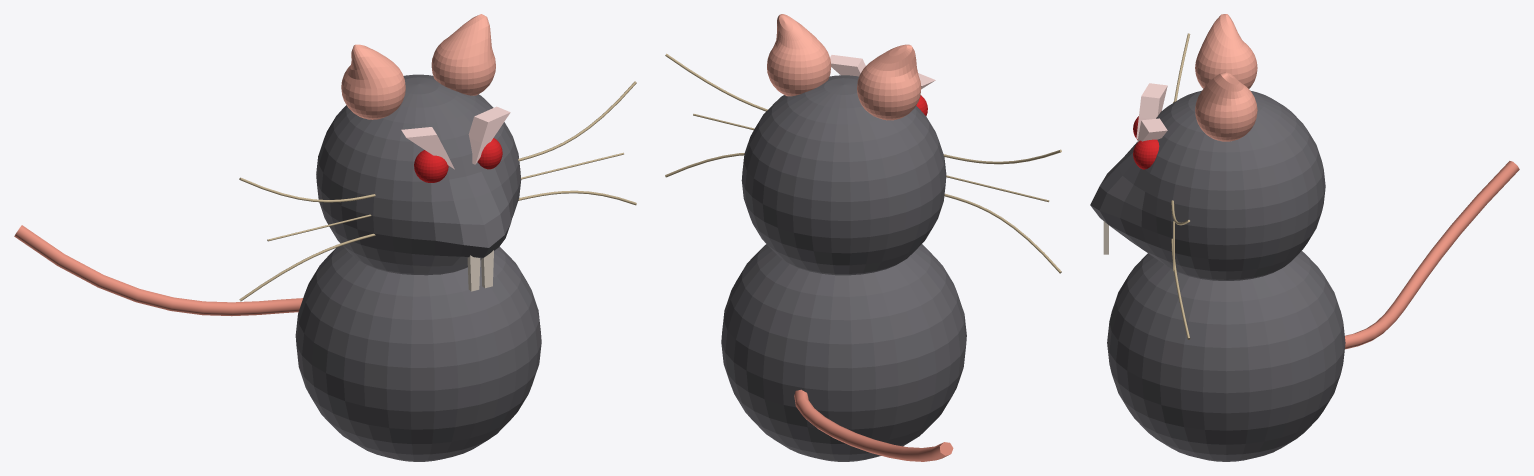
File: mouse_sculpt 1.fbx
3 views of the same model, side by side, from view 1: azimuth 30°, elevation 25°; view 2: azimuth 150°, elevation 25°; view 3: azimuth 270°, elevation 25° (orthographic). The views are drawn at different scales.
Parts seen in each view (by area): view 1: Sphere.003, Sphere, Sphere.001, BézierCurve, Cube.001, NurbsPath, Sphere.002, Cube; view 2: Sphere.003, Sphere, Sphere.001, BézierCurve, NurbsPath, Cube.001, NurbsPath.001; view 3: Sphere.003, Sphere, Sphere.001, BézierCurve, Cube.001, Sphere.002, NurbsPath.
Part boxes in pixels (x1=…): Sphere.003: x1=295, y1=245, x2=541, y2=461; Sphere: x1=316, y1=74, x2=521, y2=275; Sphere.001: x1=341, y1=14, x2=495, y2=119; BézierCurve: x1=14, y1=225, x2=302, y2=316; Cube.001: x1=401, y1=106, x2=510, y2=169; NurbsPath: x1=239, y1=81, x2=636, y2=301; Sphere.002: x1=414, y1=138, x2=502, y2=182; Cube: x1=467, y1=250, x2=493, y2=291; Sphere.003: x1=721, y1=244, x2=966, y2=461; Sphere: x1=741, y1=75, x2=946, y2=275; Sphere.001: x1=767, y1=14, x2=921, y2=120; BézierCurve: x1=794, y1=389, x2=953, y2=461; NurbsPath: x1=665, y1=53, x2=1061, y2=273; Cube.001: x1=830, y1=55, x2=935, y2=88; NurbsPath.001: x1=693, y1=113, x2=1049, y2=202; Sphere.003: x1=1107, y1=251, x2=1345, y2=461; Sphere: x1=1090, y1=90, x2=1325, y2=280; Sphere.001: x1=1195, y1=14, x2=1257, y2=141; BézierCurve: x1=1345, y1=161, x2=1519, y2=349; Cube.001: x1=1136, y1=83, x2=1167, y2=142; Sphere.002: x1=1133, y1=116, x2=1159, y2=169; NurbsPath: x1=1171, y1=33, x2=1190, y2=339.
Size of the model in its own units: 511 by 452 by 432.
